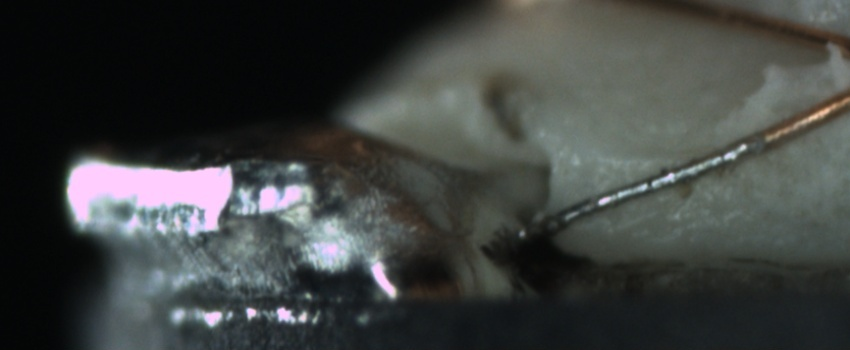DL: (572, 138, 697, 188)
TS: (520, 135, 761, 242)
